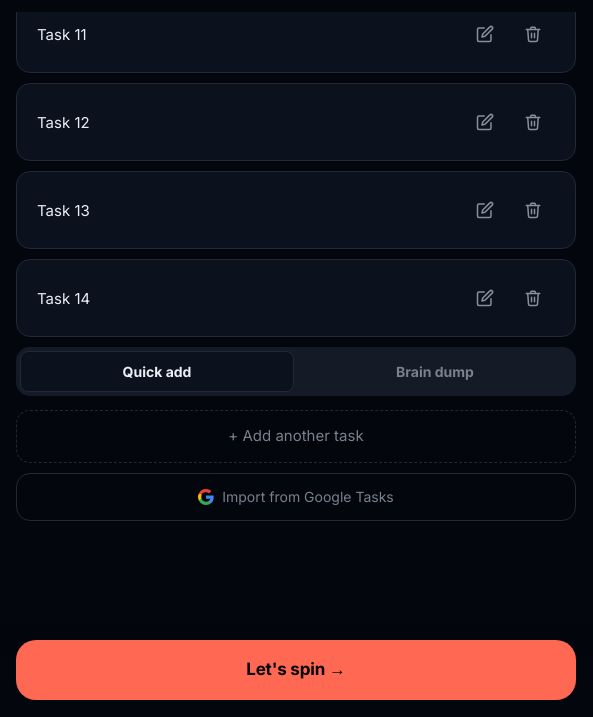
Test: ListEditScreen › brain-dump mode shows live capacity reflecting active count and room left
This screenshot has width=593, height=717.
(page scrolled)
Click the tab with test id "edit-mode-dump" at x=435, y=372, box [298, 351, 572, 392]
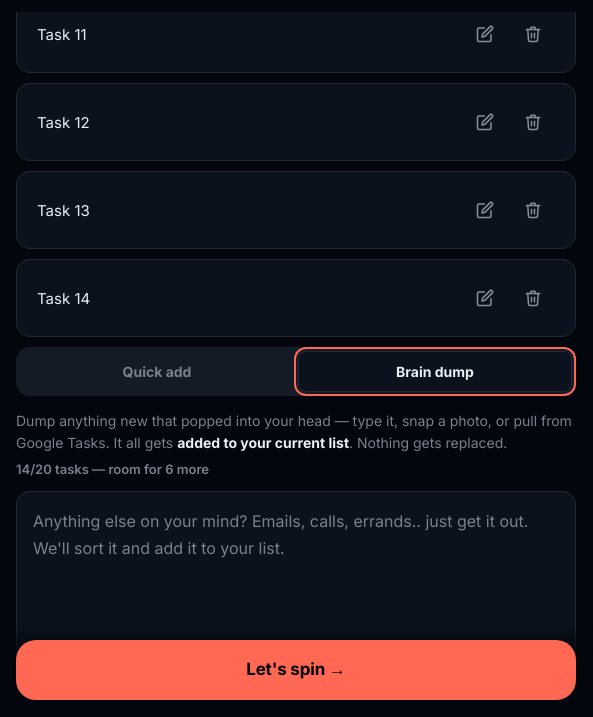
Check: the text with test id "brain-dump-capacity" shows "room for 6 more", box [16, 461, 209, 477]
